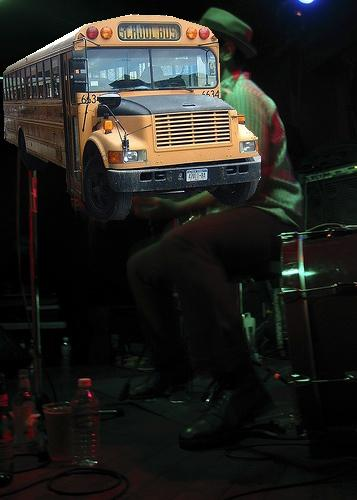tampered: (3, 15, 261, 220)
